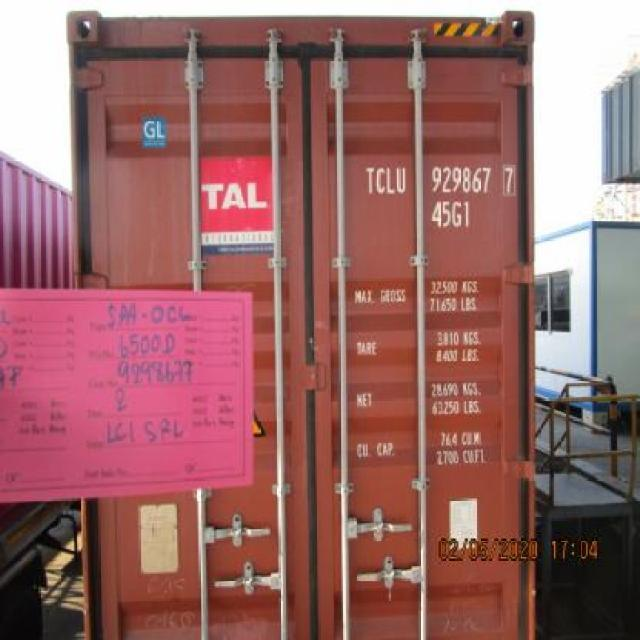ISO: (431, 200, 473, 228)
container_number: (366, 166, 518, 198)
